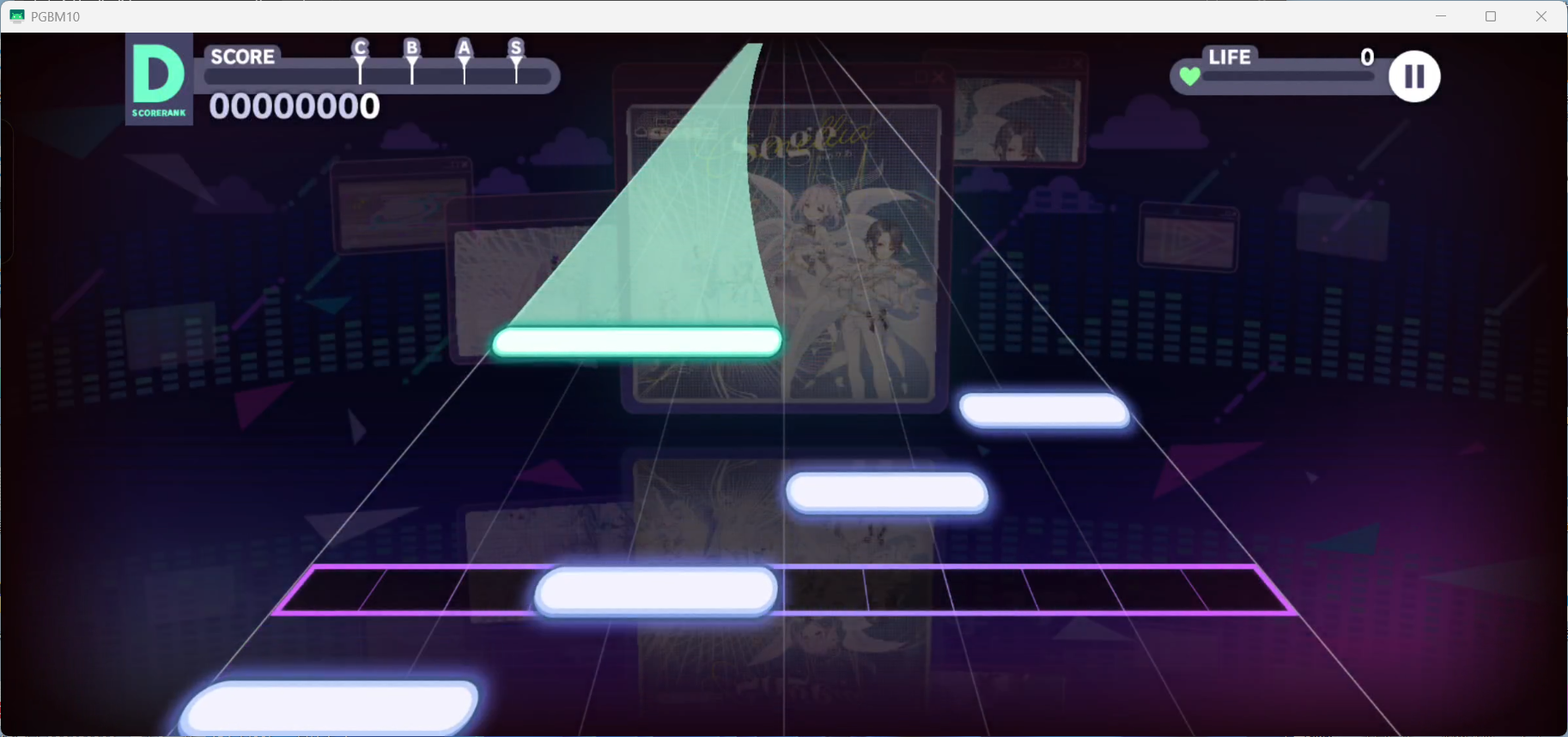hold: (507, 42, 776, 327)
tap: (181, 680, 477, 735), (534, 568, 779, 615), (492, 326, 782, 358), (786, 473, 988, 514), (959, 391, 1133, 428)
